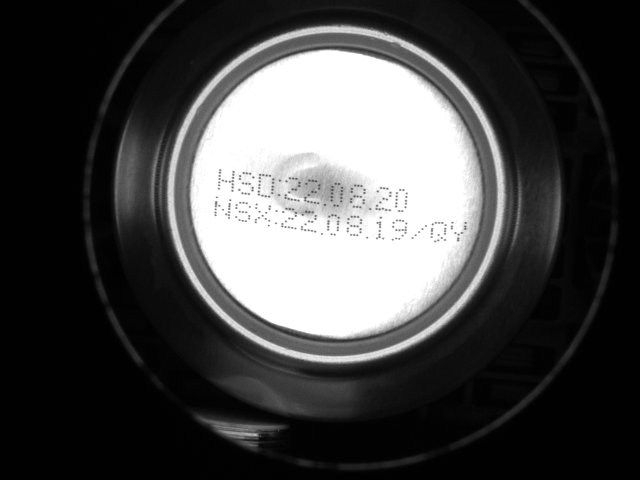/: (409, 219, 432, 243)
0: (396, 186, 415, 214), (328, 177, 344, 208), (323, 213, 342, 236)
1: (371, 217, 389, 242)
2: (371, 184, 395, 214), (278, 175, 301, 204), (302, 177, 322, 206), (299, 209, 317, 234), (279, 206, 297, 228)
8: (347, 180, 369, 209), (343, 214, 367, 239)
9: (392, 217, 408, 244)
D: (256, 174, 278, 200)
H: (212, 168, 236, 193)
N: (211, 198, 231, 220)
Q: (431, 221, 451, 243)
S: (231, 200, 251, 225), (238, 170, 254, 194)
X: (253, 204, 271, 227)
Y: (450, 219, 468, 244)
